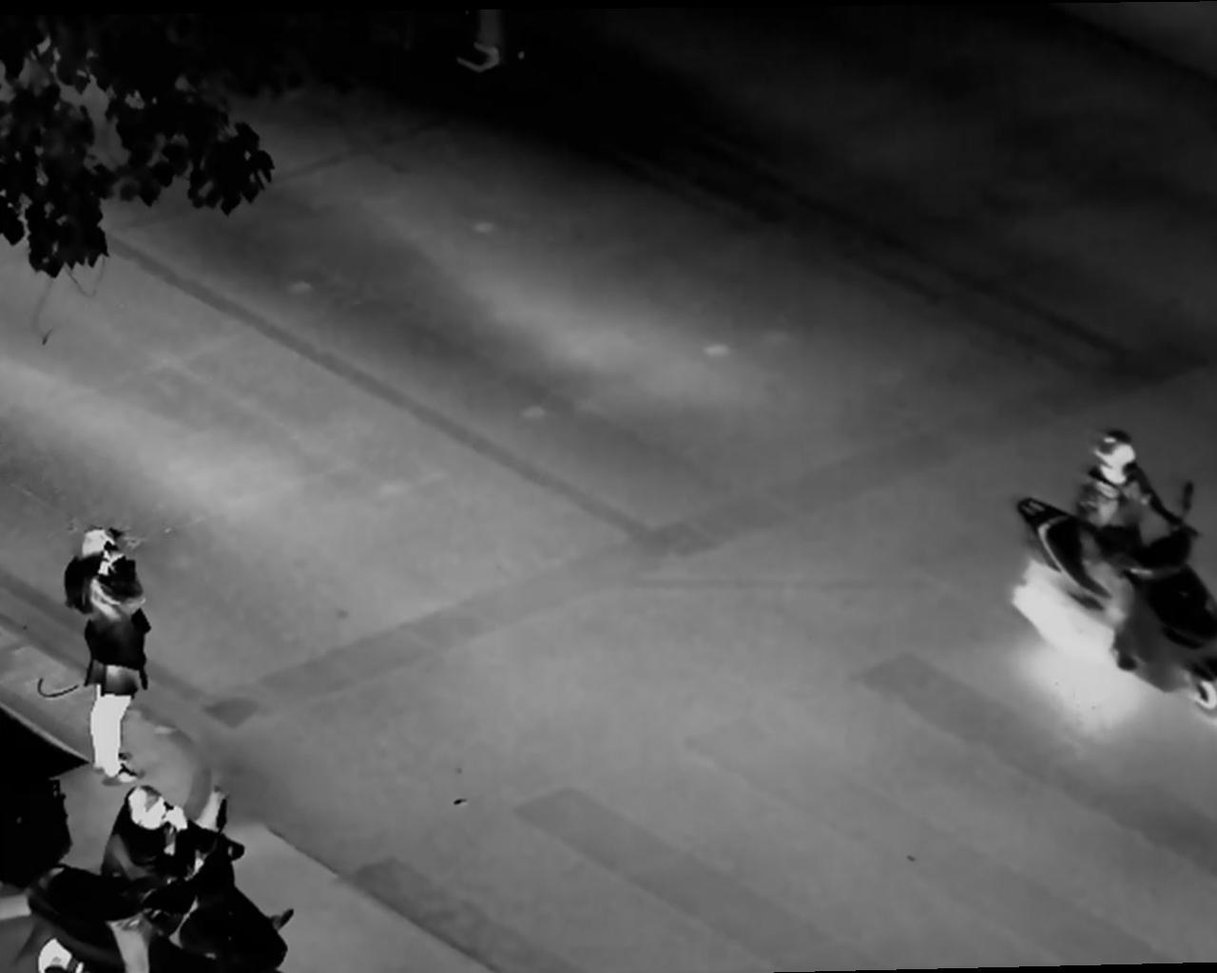person: (65, 529, 164, 792), (92, 780, 211, 973), (1077, 425, 1159, 660)
